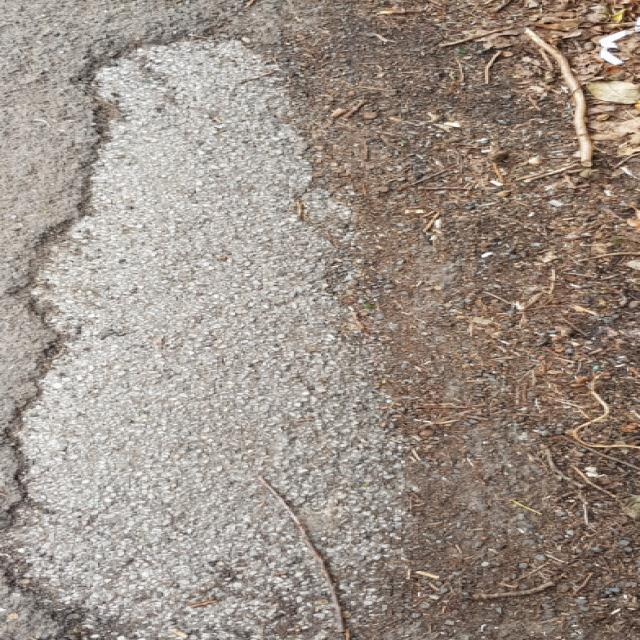Pothole: (1, 26, 412, 638)
